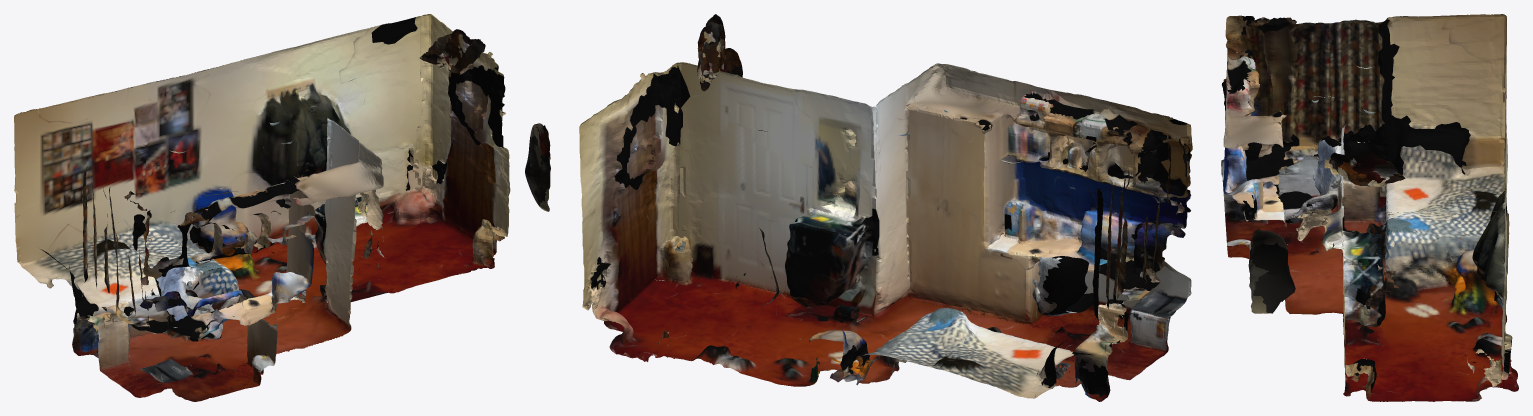
Rendered from scan.glb.
3 renders of one model, left to right at view 1: azimuth 30°, elevation 25°; view 2: azimuth 150°, elevation 25°; view 3: azimuth 270°, elevation 25°, orthographic. The views are drawn at different scales.
Parts seen in each view (by area): view 1: GLTF; view 2: GLTF; view 3: GLTF.
Boxes of the visible parts, x1=… form: GLTF: x1=14, y1=14, x2=550, y2=401; GLTF: x1=579, y1=14, x2=1192, y2=401; GLTF: x1=1221, y1=14, x2=1518, y2=401.
Size of the model in its own units: 5.23 by 3 by 3.17.
Materials: 1 (1 with a texture image).
